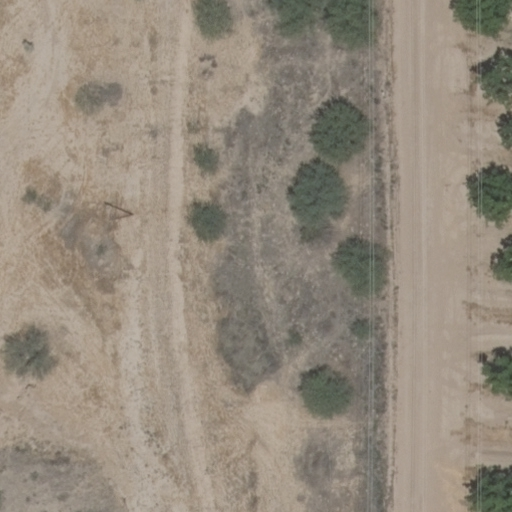DT: (103, 202, 136, 220)
